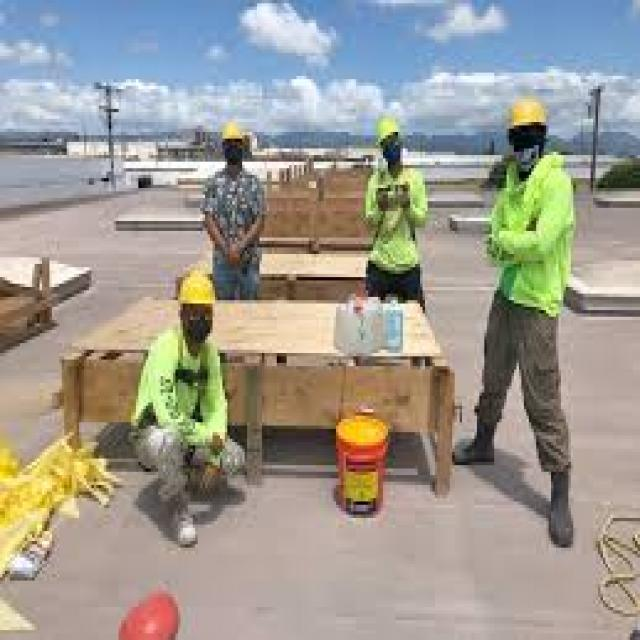Safety-Helmet: (109, 577, 192, 640), (494, 83, 558, 145), (165, 261, 225, 323), (368, 102, 413, 155), (212, 109, 255, 158)
